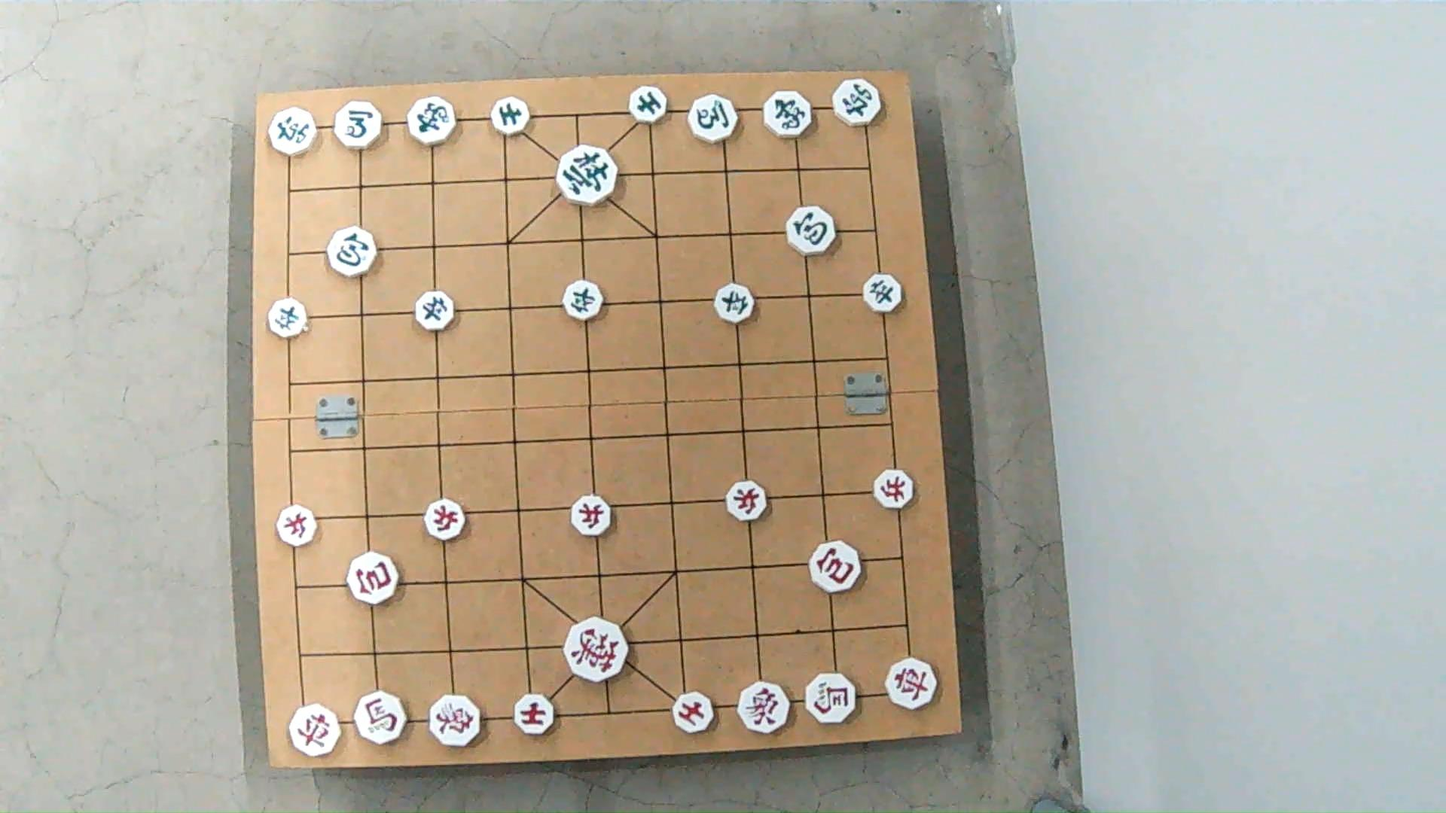cha_green: (269, 105, 317, 156), (831, 81, 883, 128)
cha_red: (289, 706, 341, 755), (885, 659, 938, 707)
jol_green: (715, 285, 756, 324), (562, 284, 604, 321), (413, 293, 453, 331), (264, 300, 305, 337), (863, 276, 903, 313)
jol_red: (278, 509, 321, 548), (569, 496, 611, 535), (873, 470, 916, 508), (422, 503, 463, 542), (725, 483, 767, 521)
ma_green: (689, 90, 741, 144), (334, 105, 383, 150)
ma_red: (353, 690, 407, 744), (805, 672, 859, 723)
po_green: (326, 230, 377, 277), (788, 207, 838, 254)
po_red: (350, 553, 401, 604), (807, 543, 860, 592)
sa_green: (488, 98, 529, 134), (627, 87, 667, 122)
sa_red: (513, 695, 554, 735), (670, 695, 713, 733)
sang_green: (405, 93, 456, 146), (765, 91, 813, 139)
sang_red: (427, 693, 483, 745), (737, 680, 793, 731)
wang_green: (557, 147, 617, 204)
wang_red: (563, 622, 628, 682)
